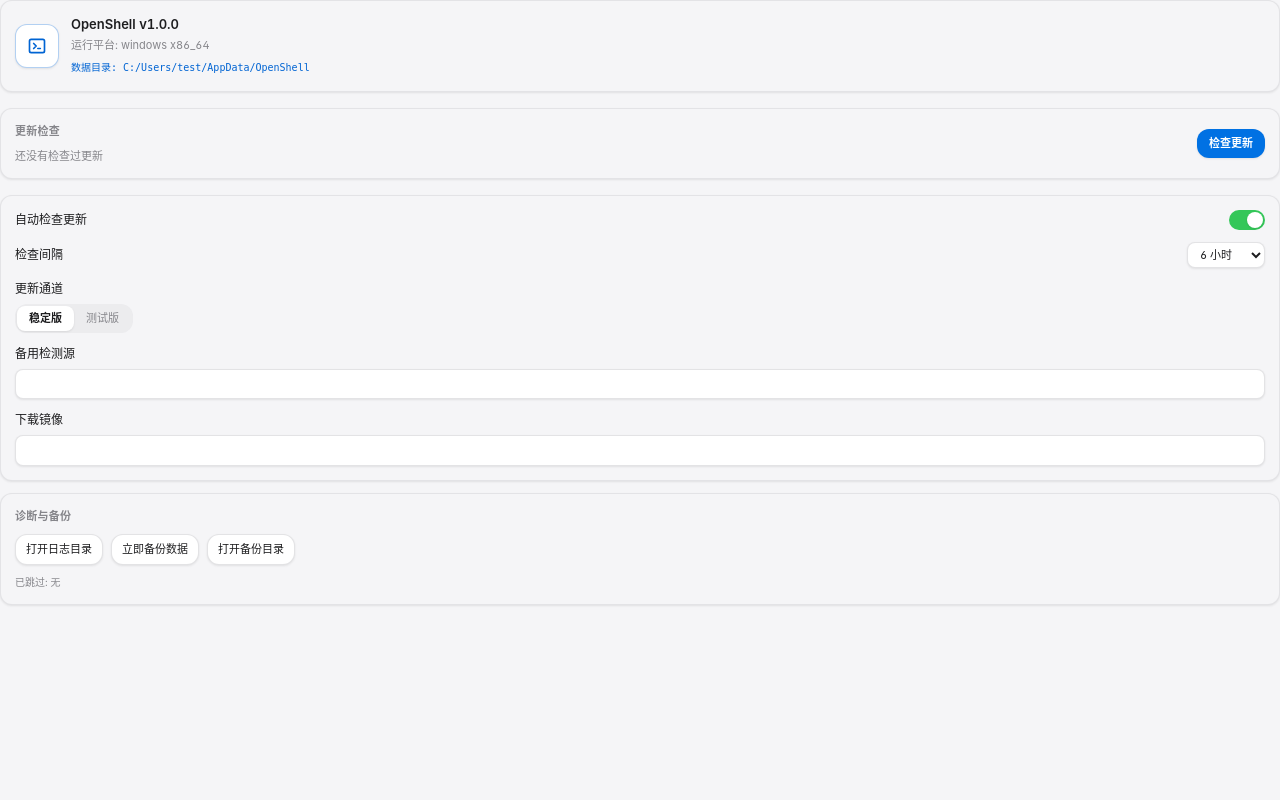
Test: AboutUpdateTab Backup UI › displays green success message with file details when backupNow resolves
Click the button "立即备份数据" at (155, 549), box [111, 534, 199, 564]
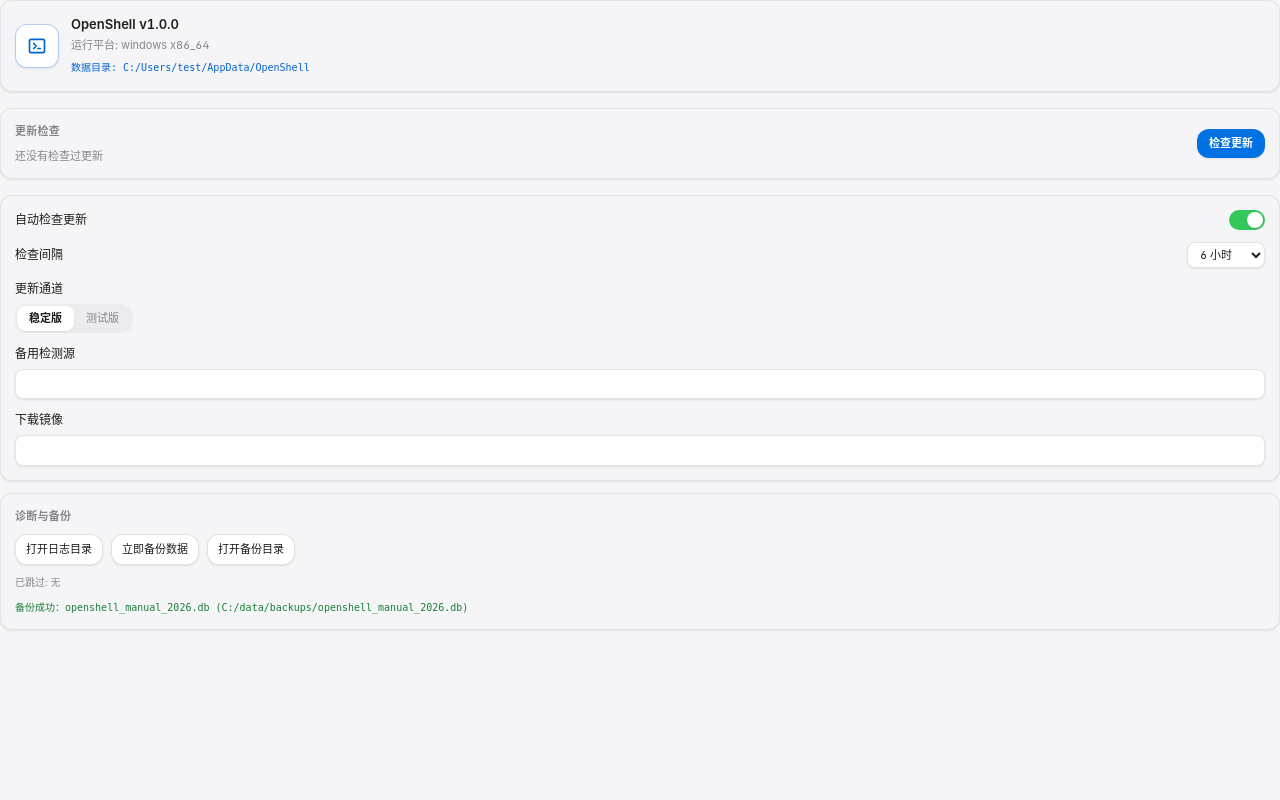
Check: the text "备份成功：openshell_manual_2026.db" is shown, box [15, 602, 468, 612]
